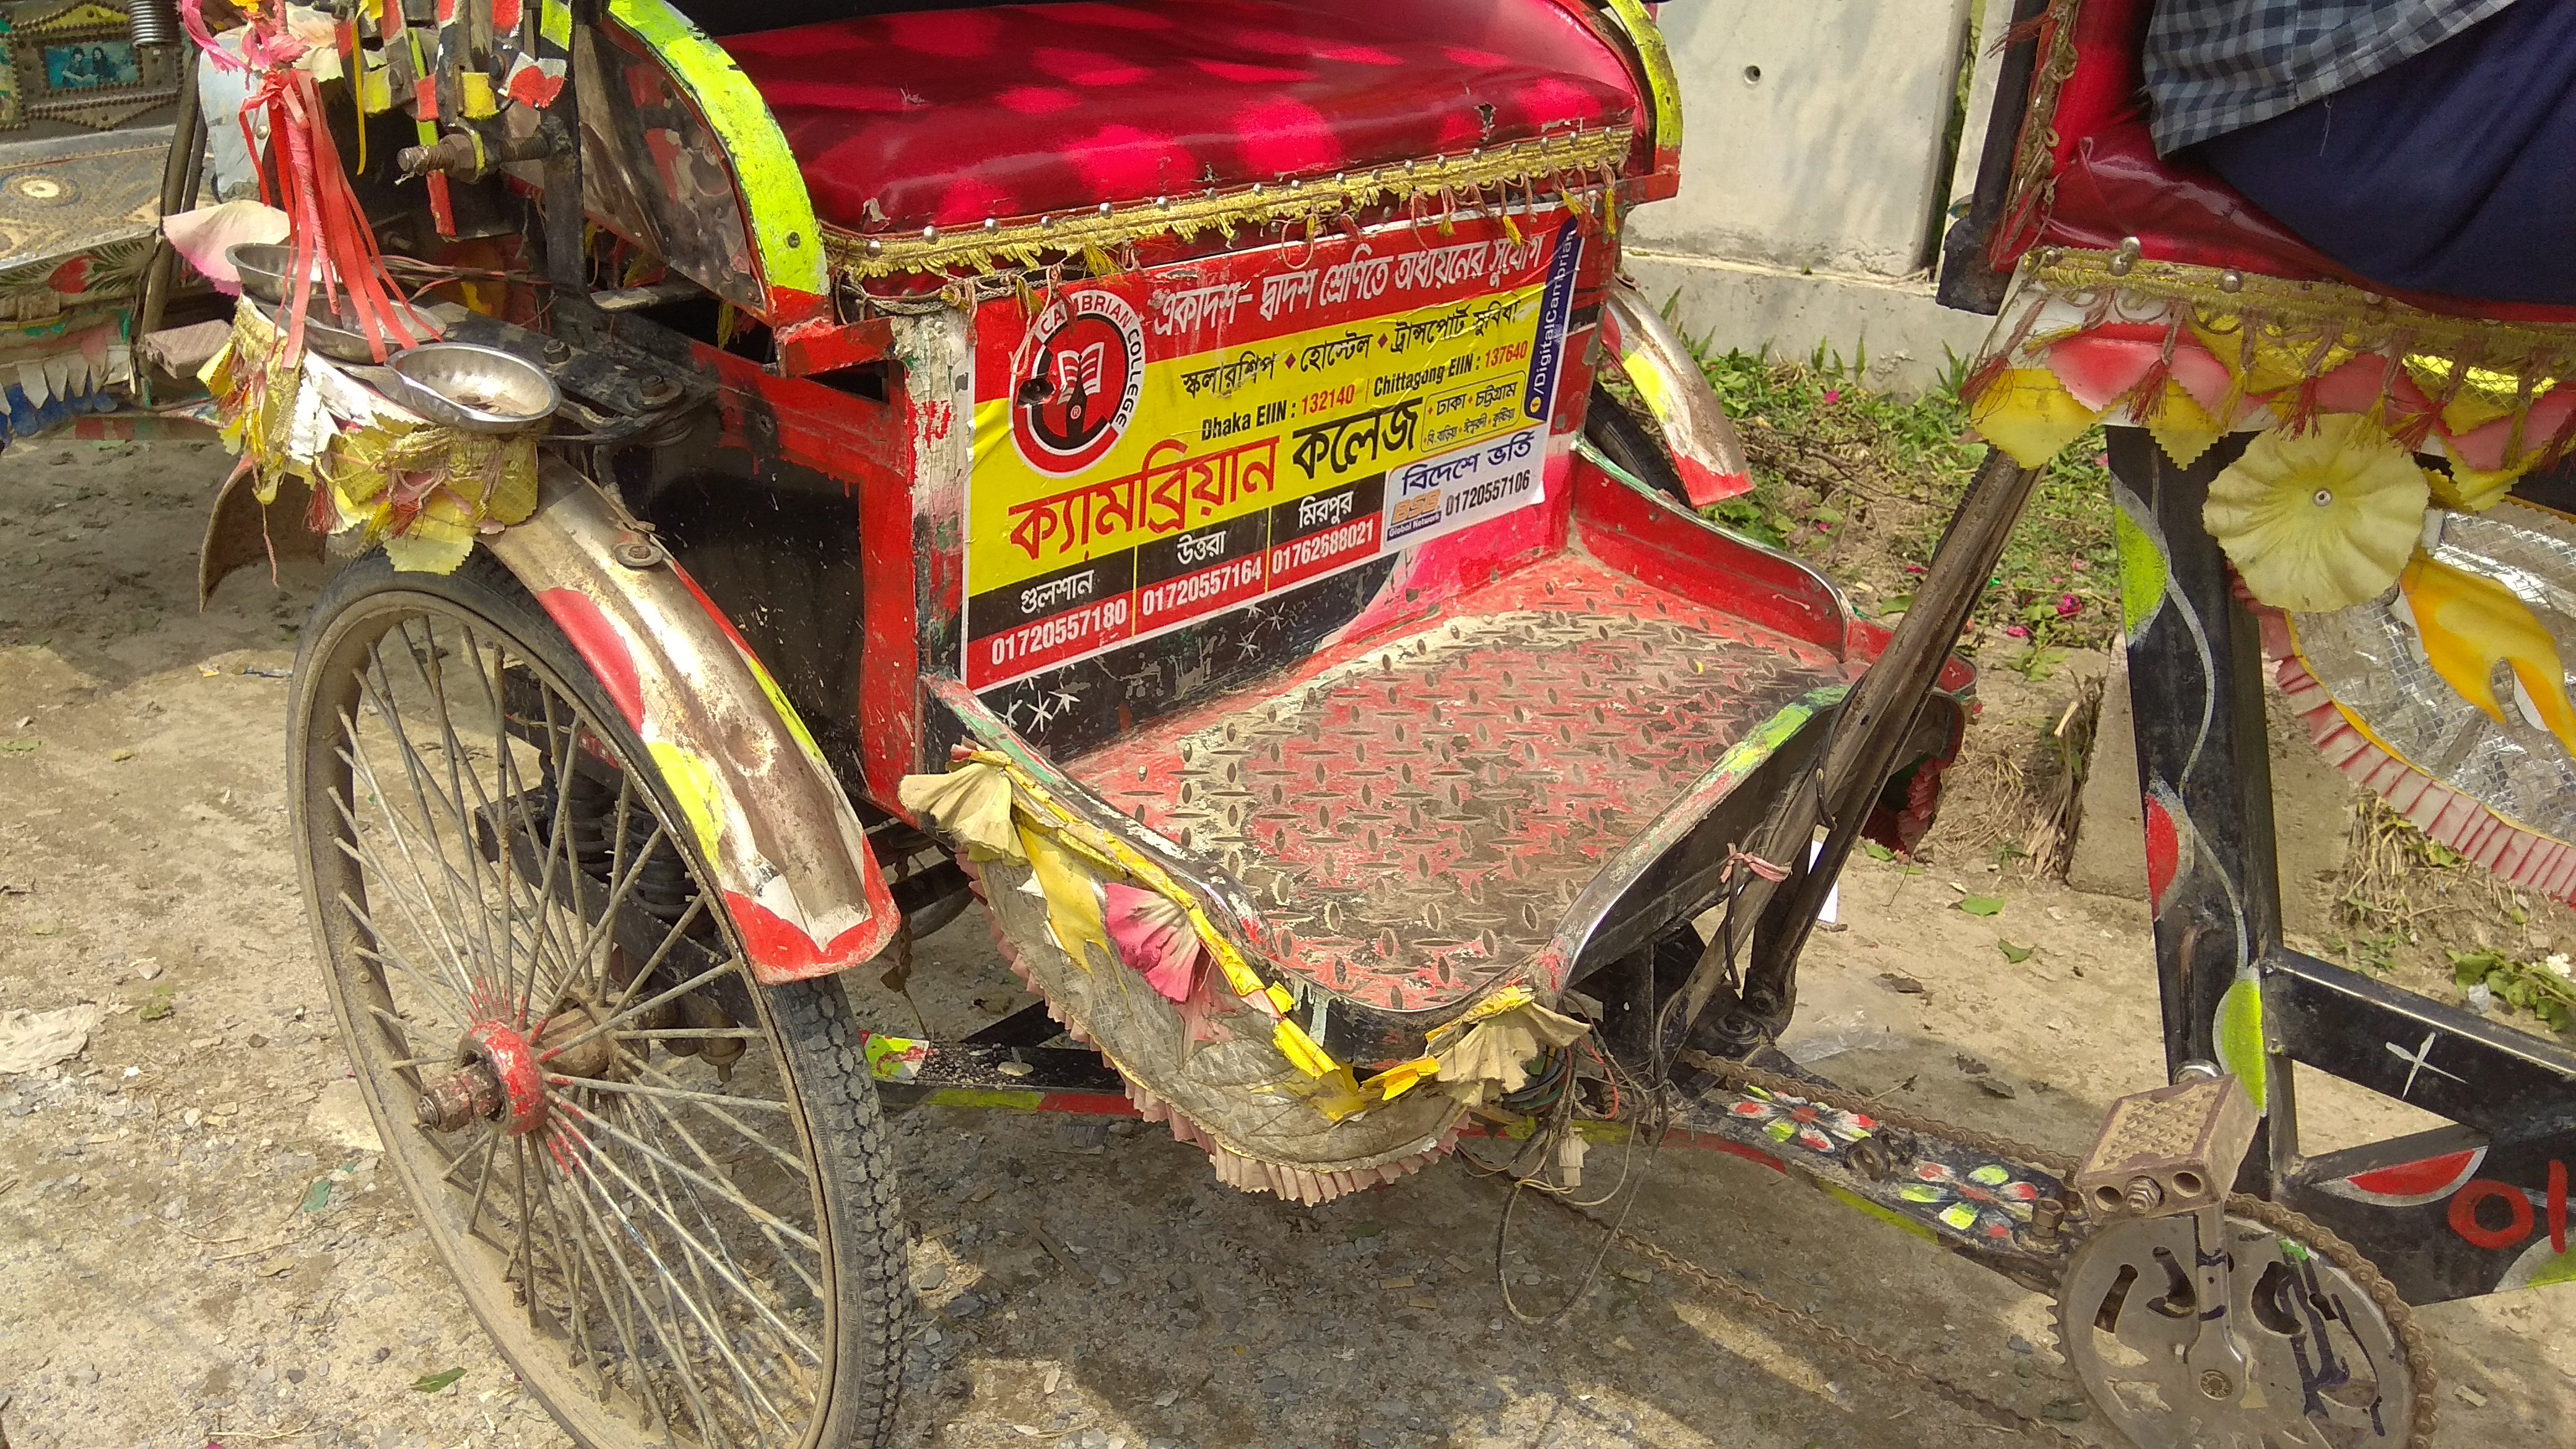Rickshaw: (182, 2, 2574, 1359)
